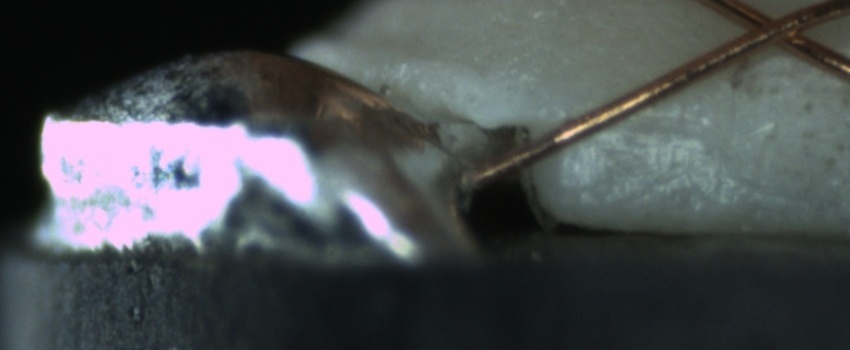CL: (723, 2, 823, 55)
DL: (582, 98, 706, 158)
